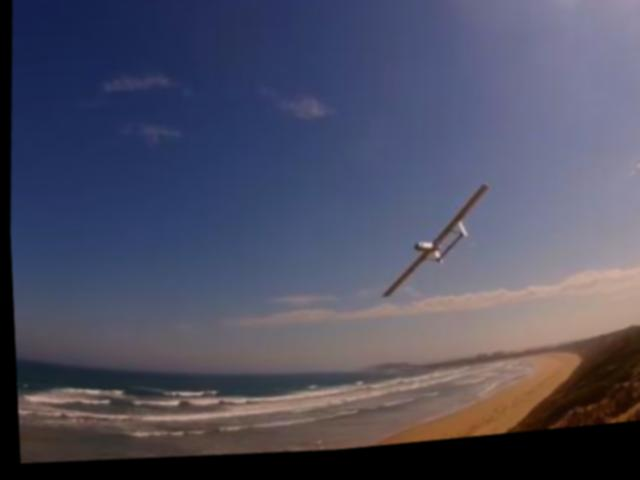uav: (366, 181, 502, 316)
